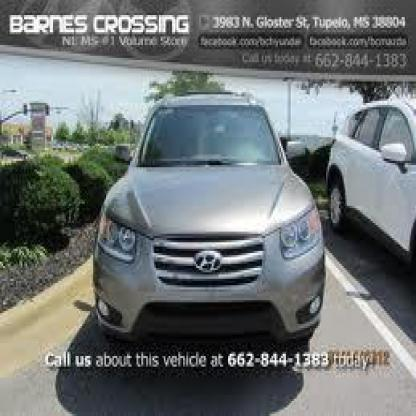car: (93, 96, 329, 354)
